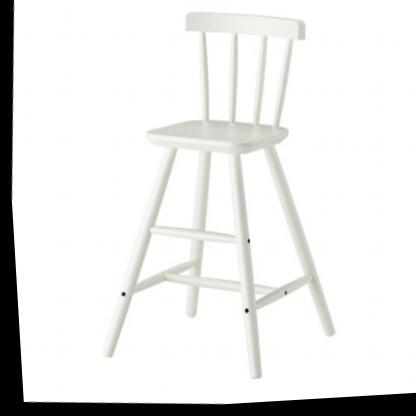Chair: (73, 0, 362, 398)
